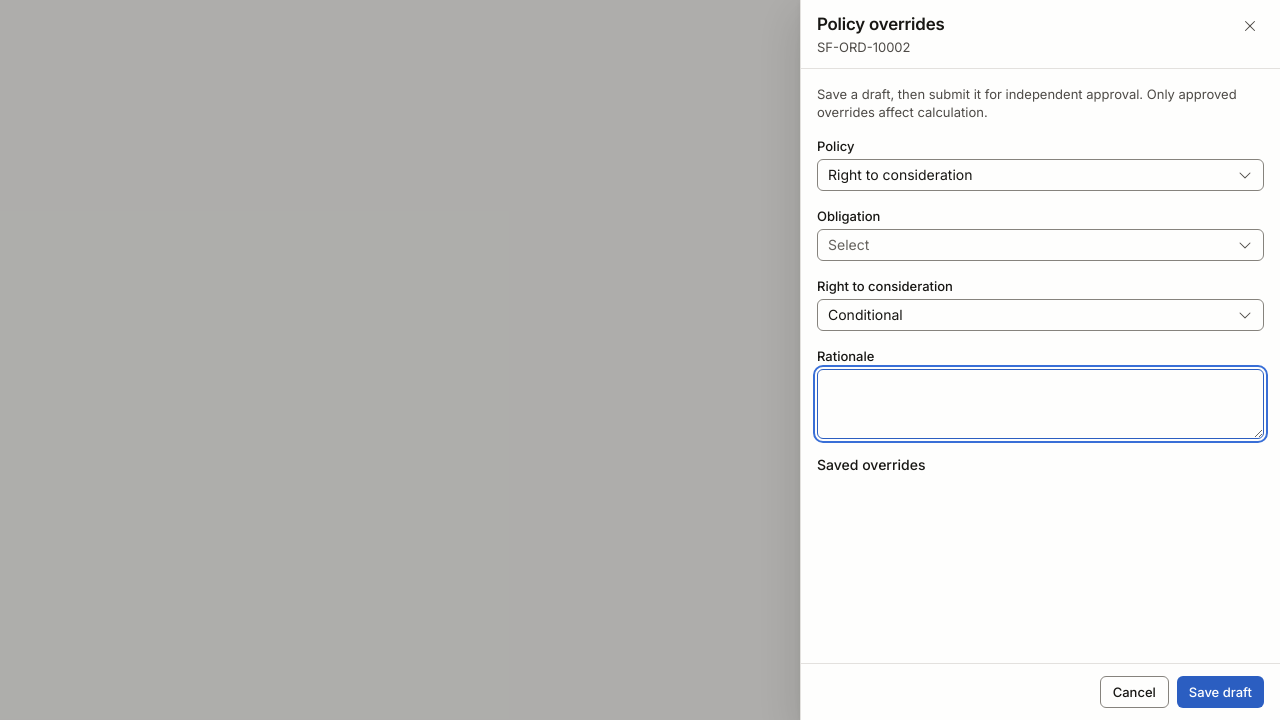
blocks empty required fields without a command
Click the button "Save draft" at (1220, 692), box [1177,676,1264,708]
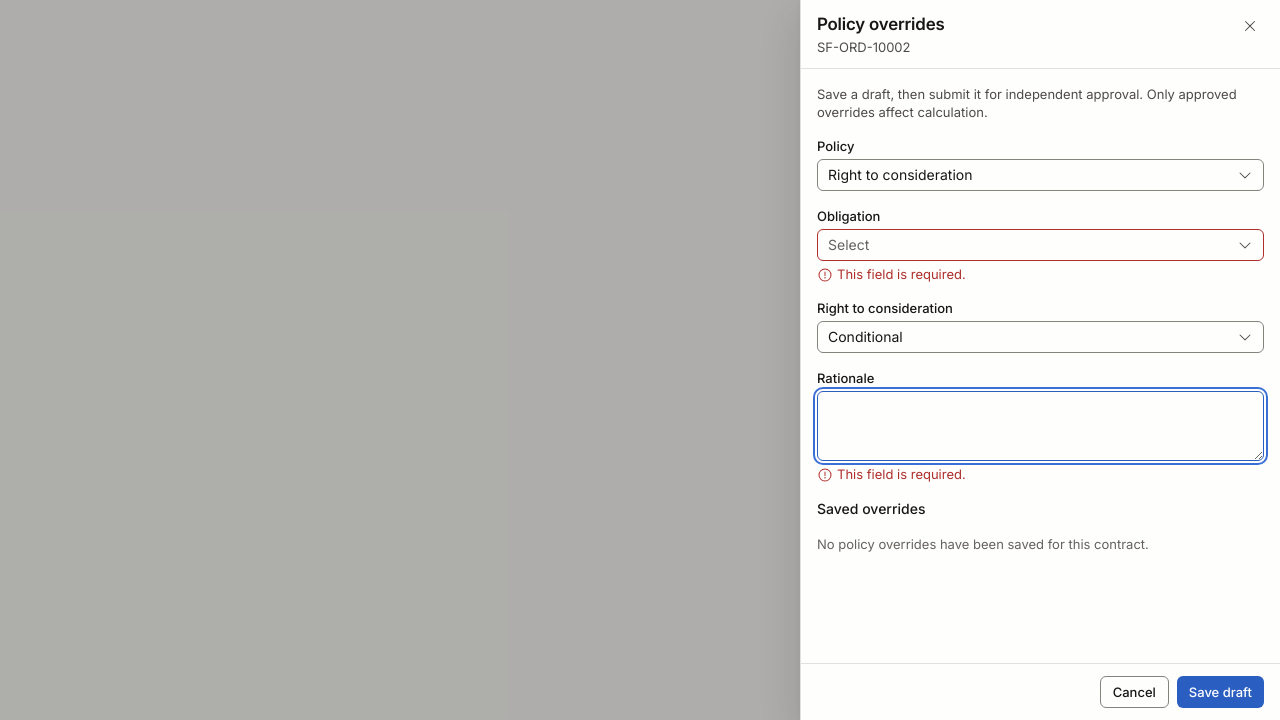
Expected: the text "This field is required." is shown 2 times, [817,266,966,283]; [817,466,966,483]
